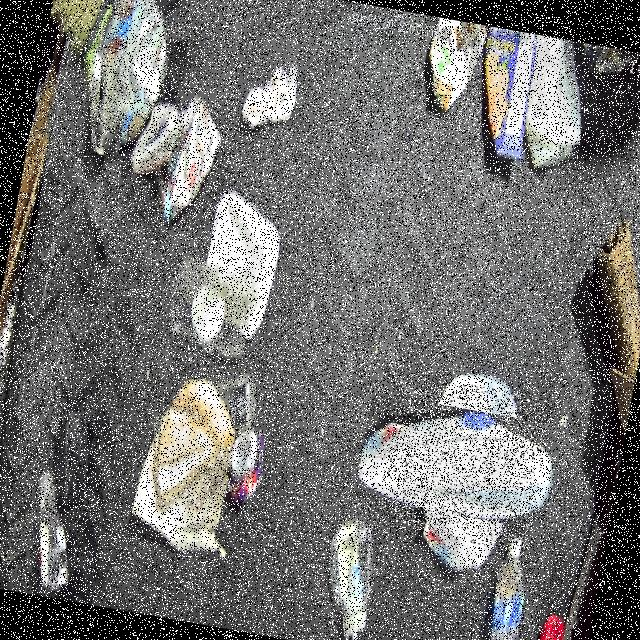milk-jug: (372, 370, 552, 552)
